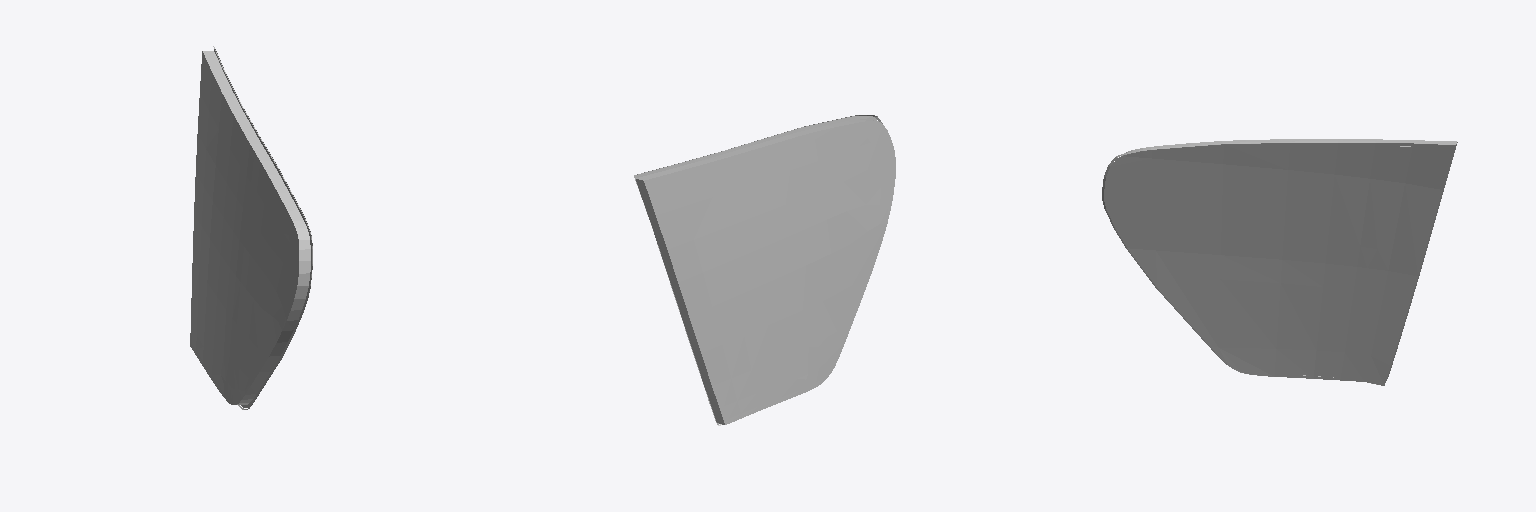
3 renders of one model, left to right at view 1: azimuth 30°, elevation 25°; view 2: azimuth 150°, elevation 25°; view 3: azimuth 270°, elevation 25°, orthographic.
Parts seen in each view (by area): view 1: E233_541D_L_1_DTaSI_E233_541D_L, E233_541D_L_E233_541D_L_2_N; view 2: E233_541D_L_1_DTaSI_E233_541D_L, E233_541D_L_E233_541D_L_2_N; view 3: E233_541D_L_E233_541D_L_2_N, E233_541D_L_1_DTaSI_E233_541D_L, E233_541D_L_E233_541D_L_3_D.
Boxes of the visible parts, x1,y1,x2,y2 form: E233_541D_L_1_DTaSI_E233_541D_L: [190, 51, 310, 404]; E233_541D_L_E233_541D_L_2_N: [214, 49, 312, 407]; E233_541D_L_1_DTaSI_E233_541D_L: [636, 119, 895, 424]; E233_541D_L_E233_541D_L_2_N: [634, 116, 876, 424]; E233_541D_L_E233_541D_L_2_N: [1104, 143, 1455, 385]; E233_541D_L_1_DTaSI_E233_541D_L: [1123, 139, 1457, 380]; E233_541D_L_E233_541D_L_3_D: [1102, 141, 1455, 384].
Size of the model in its own units: 6.92 by 19.07 by 22.89.